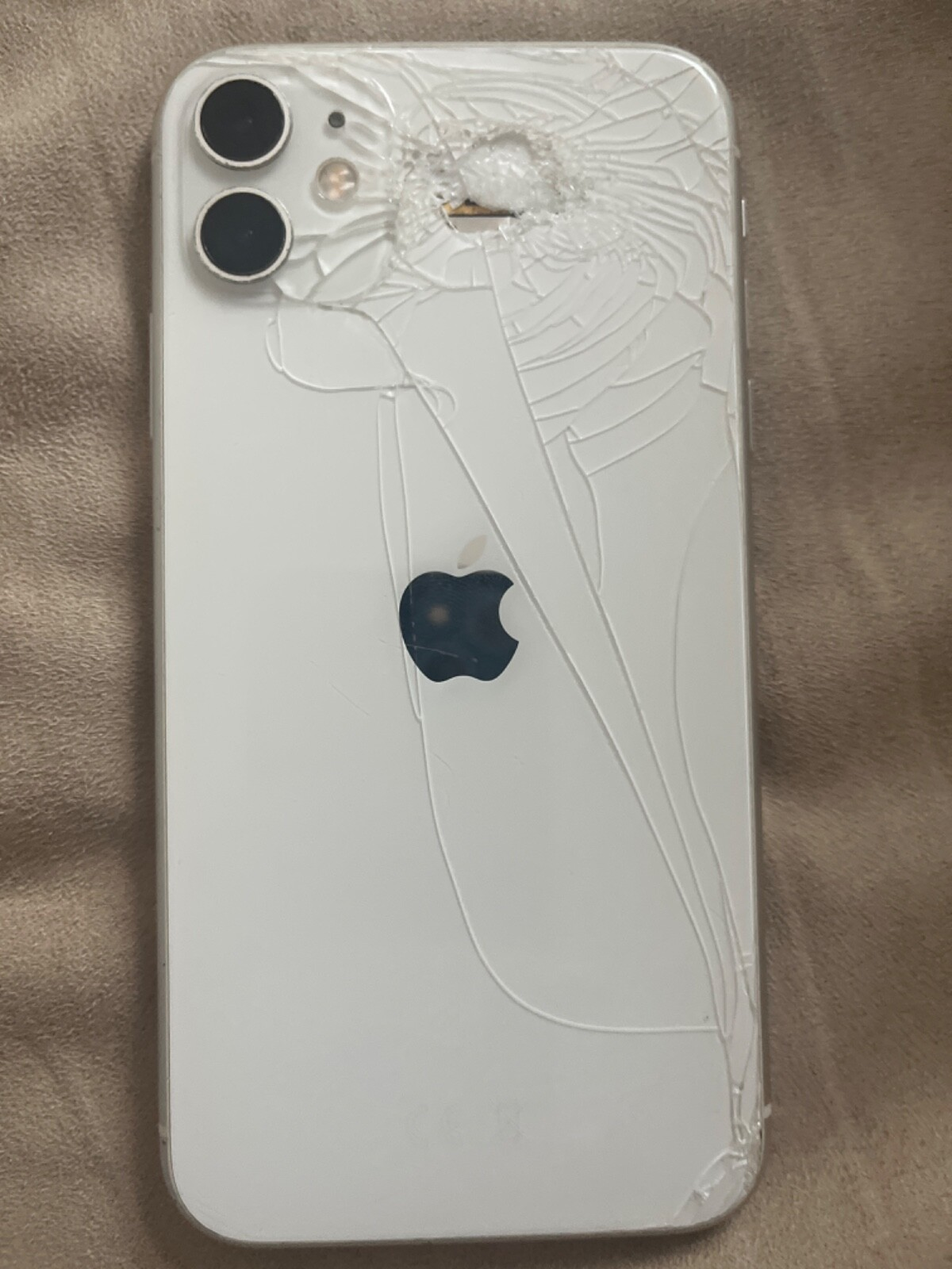crack_phone: (120, 25, 798, 1253)
